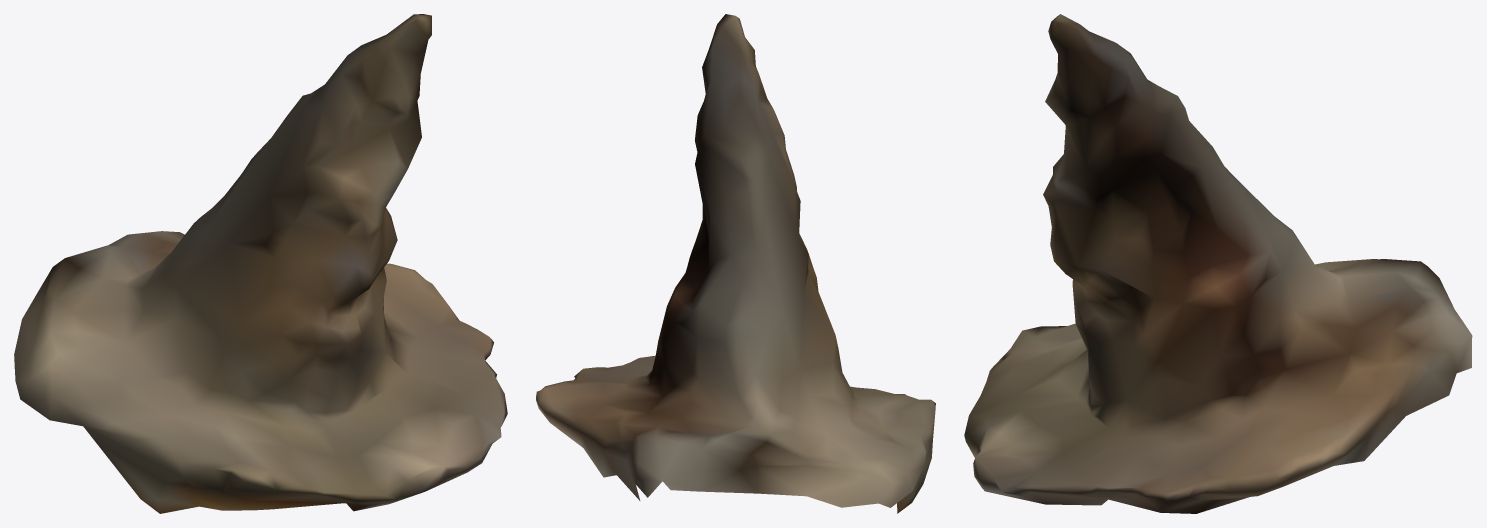
Rendered from hat2.obj.
The picture shows the model from 3 angles, left to right: view 1: azimuth 30°, elevation 25°; view 2: azimuth 150°, elevation 25°; view 3: azimuth 270°, elevation 25°; orthographic projection. The views are drawn at different scales.
Bounding box in the file's own units: 2.1 × 2.32 × 2.1.
